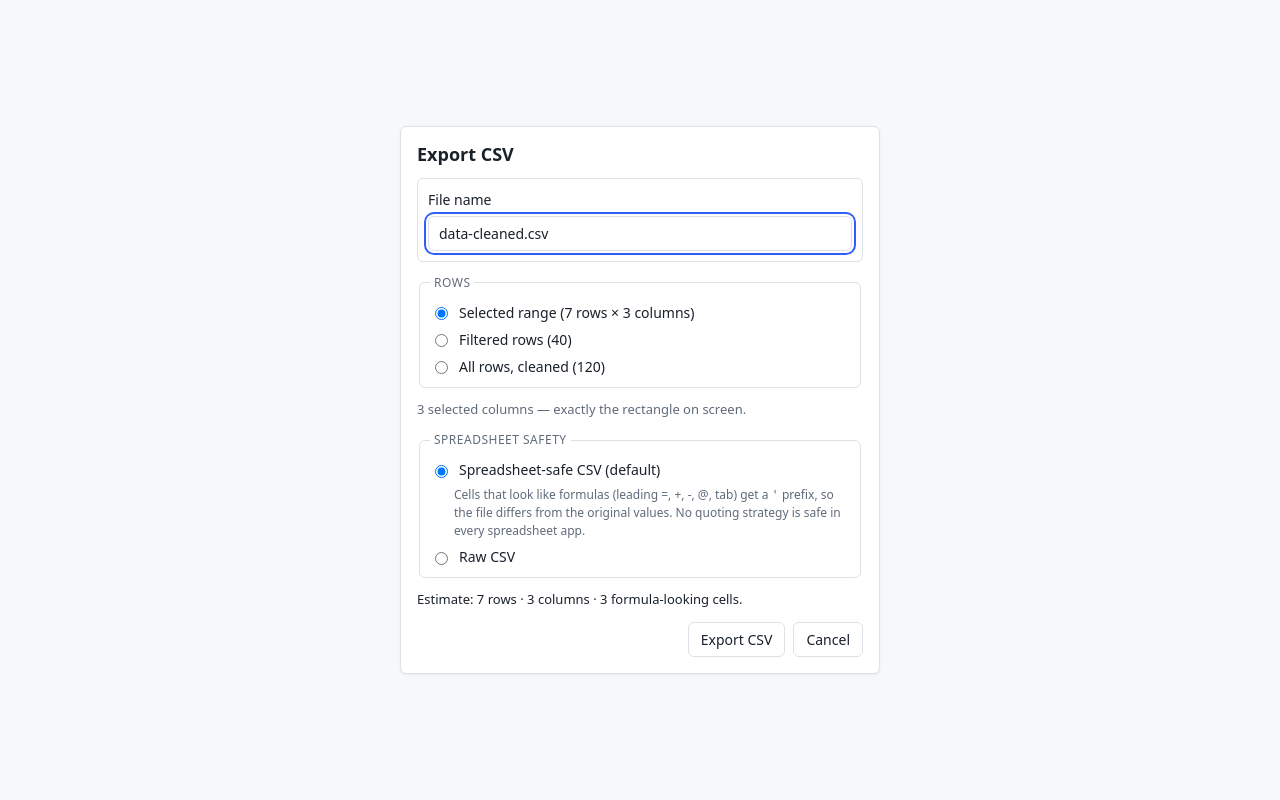
ExportDialog scopes › switching scopes switches the estimate
Click the radio button labelled "Filtered rows (40)".
click(442, 341)  # box [435,334,448,347]
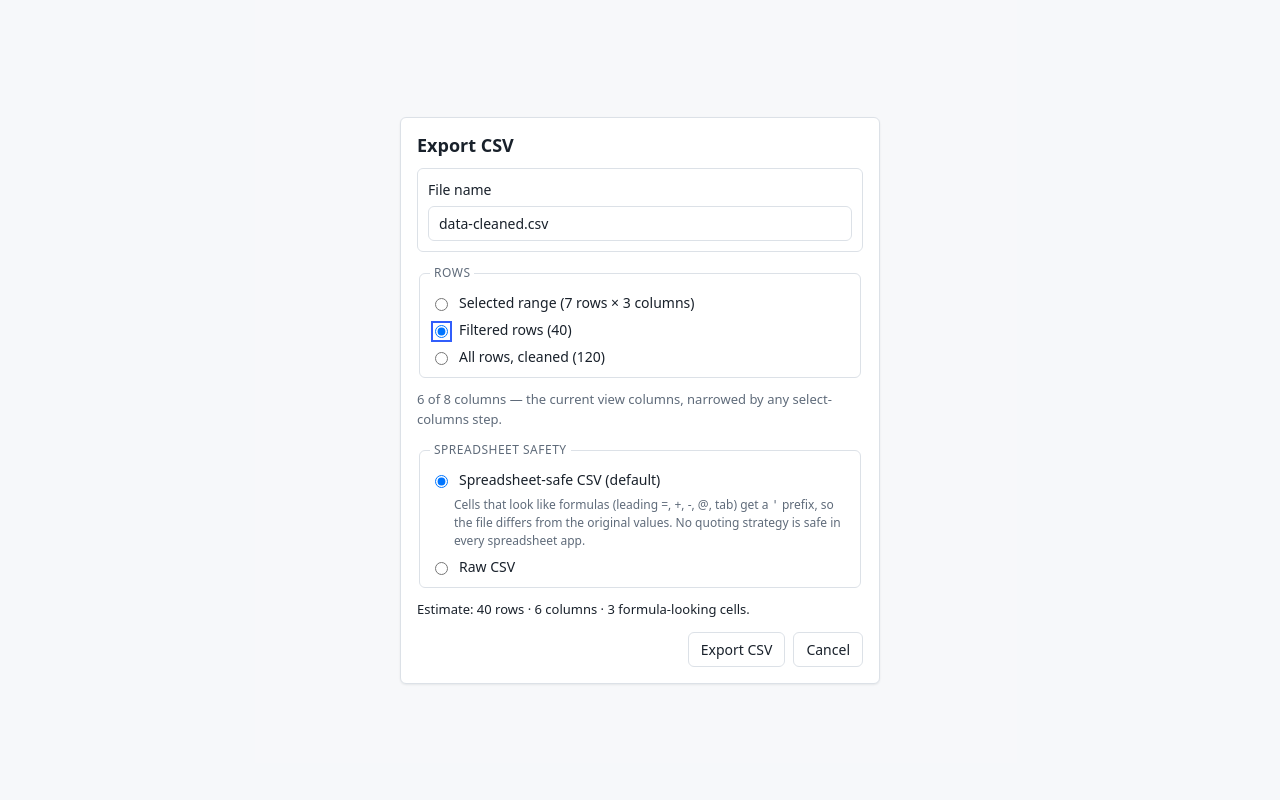
Check: the text "Estimate: 40 rows · 6 columns · 3 formula-looking cells." is shown, box [417,600,750,618]
Check: the text "6 of 8 columns" is shown, box [417,390,832,428]
Click the radio button labelled "All rows, cleaned (120)".
click(442, 358)  # box [435,352,448,364]
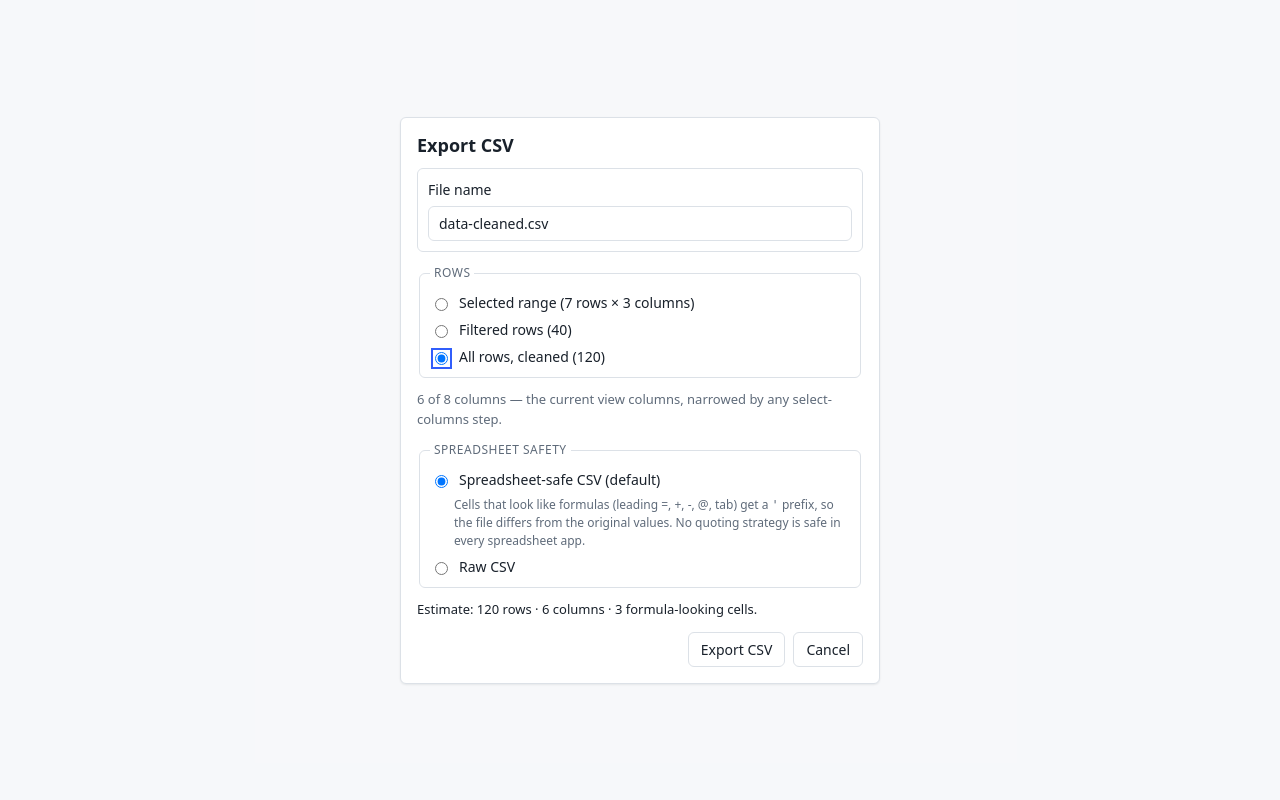
Check: the text "Estimate: 120 rows · 6 columns · 3 formula-looking cells." is shown, box [417,600,757,618]
